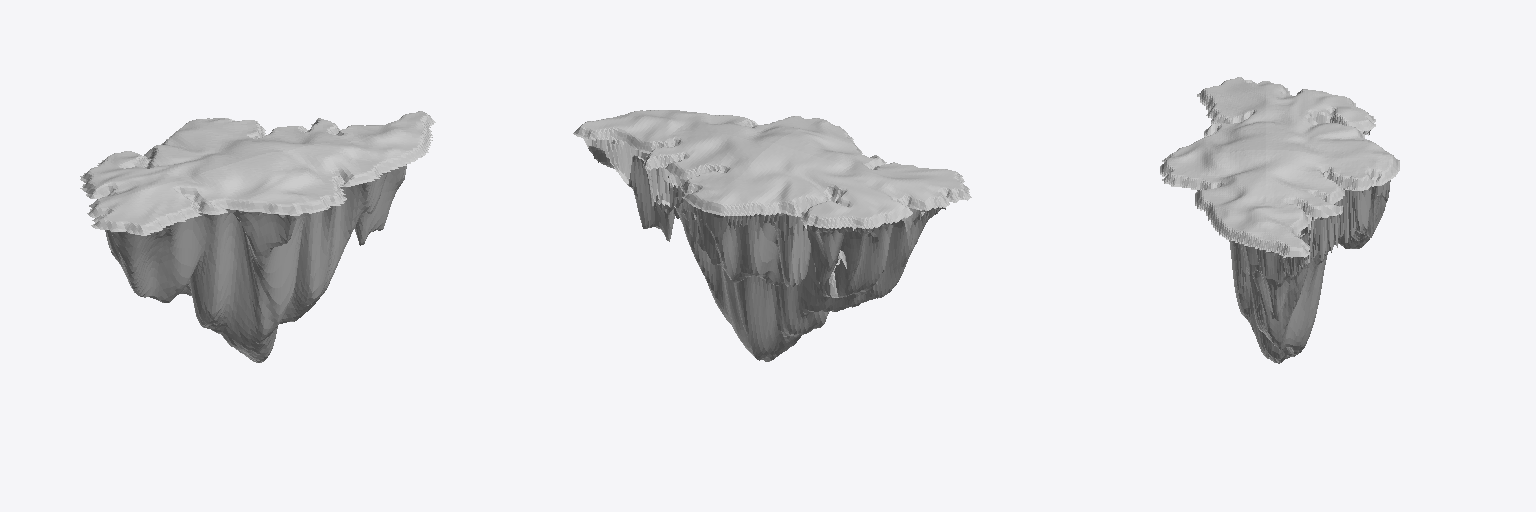
Rendered from SPORE.obj.
The picture shows the model from 3 angles: view 1: azimuth 30°, elevation 25°; view 2: azimuth 150°, elevation 25°; view 3: azimuth 270°, elevation 25°; orthographic projection.
Bounding box in the file's own units: 284 × 159 × 162.